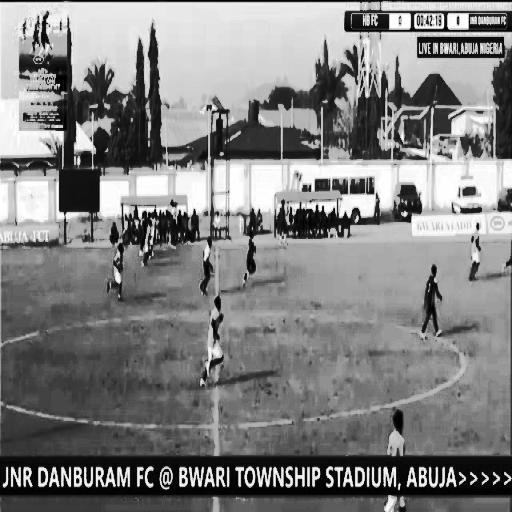referee: (197, 228, 218, 298)
team1: (200, 294, 228, 385), (388, 406, 409, 512), (108, 242, 129, 307), (469, 220, 485, 287), (142, 211, 158, 266)
team2: (422, 260, 446, 346), (245, 222, 259, 298)
